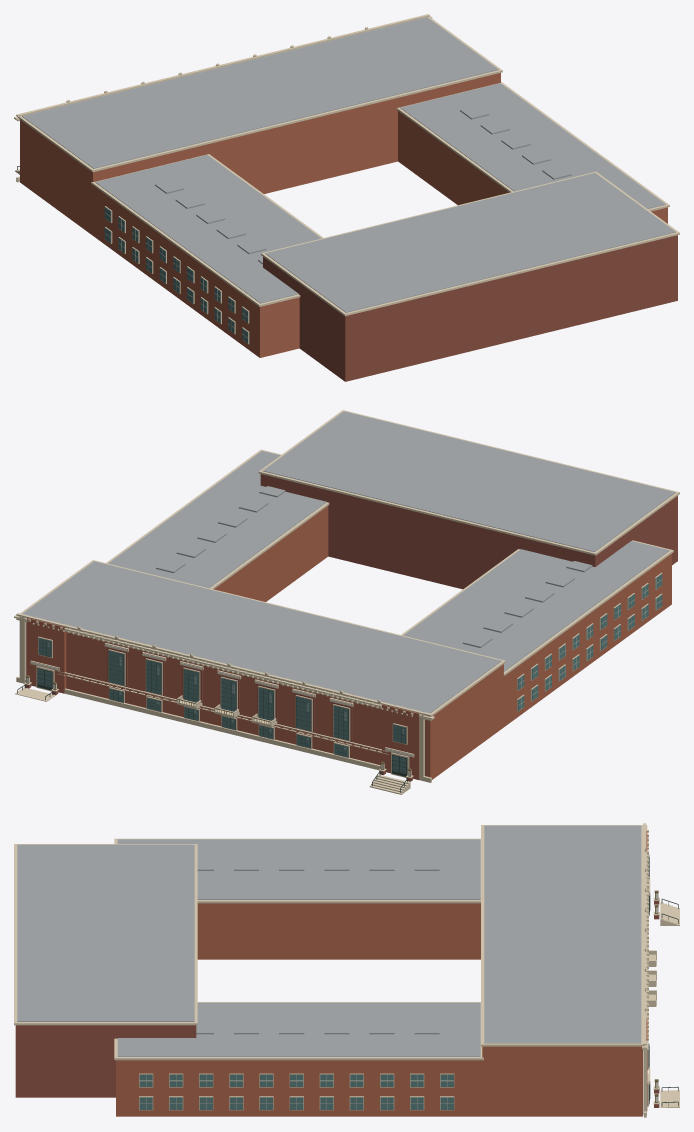
File: knight-library.glb
3 renders of one model, top to bottom at view 1: azimuth 30°, elevation 25°; view 2: azimuth 150°, elevation 25°; view 3: azimuth 270°, elevation 25°, orthographic. The views are drawn at different scales.
Parts seen in each view (by area): view 1: roof-6684e091; view 2: roof-6684e091; view 3: roof-6684e091.
Part boxes in pixels (x1,y1,x2,y2): roof-6684e091: (14,14,679,381); roof-6684e091: (14,410,679,794); roof-6684e091: (14,823,679,1117).
Bounding box in the file's own units: 105 × 17.83 × 133.
